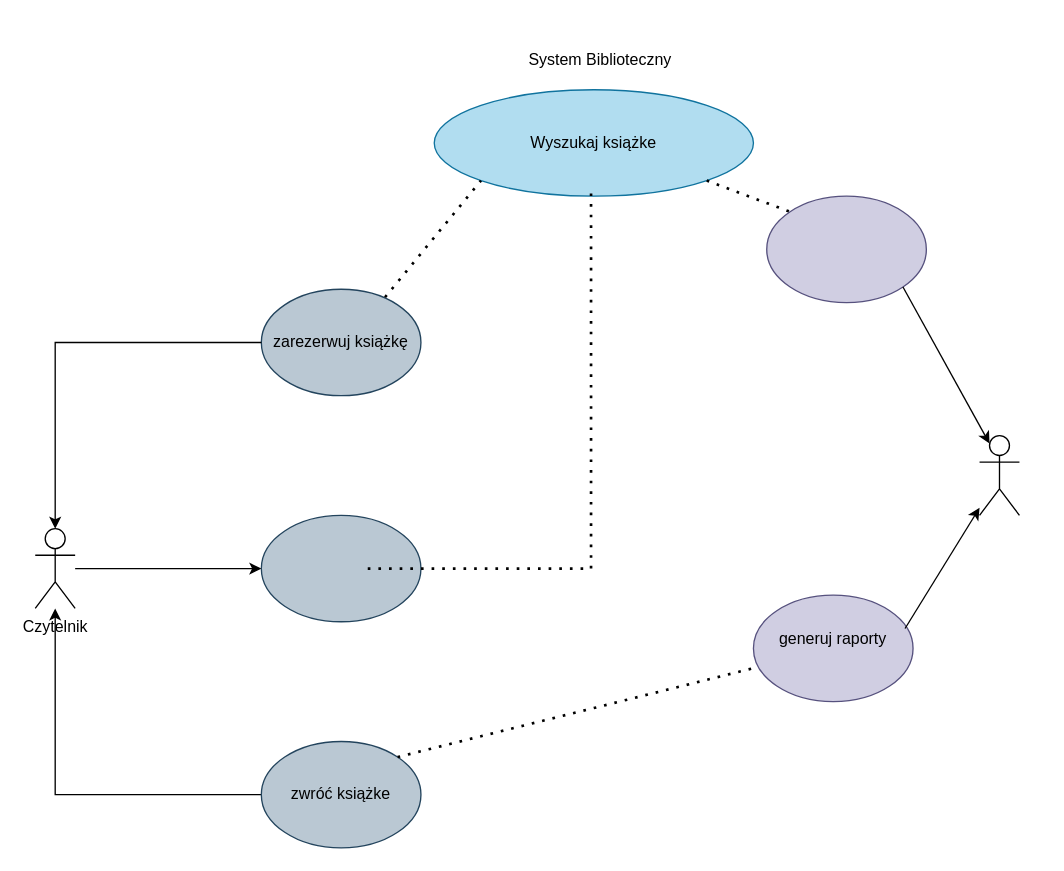
Some shapes in this 1064 by 871 pixel diagram are drawn without their labels. The shapes that lost their labels are listed below. From the top down, each one's box as (x1, y1, x2, y2) in pixels, then its label:
(765, 195, 926, 303): zarządzaj katalogiem
(978, 434, 1019, 515): Bibliotekarz
(260, 514, 421, 622): wypożycz książke
